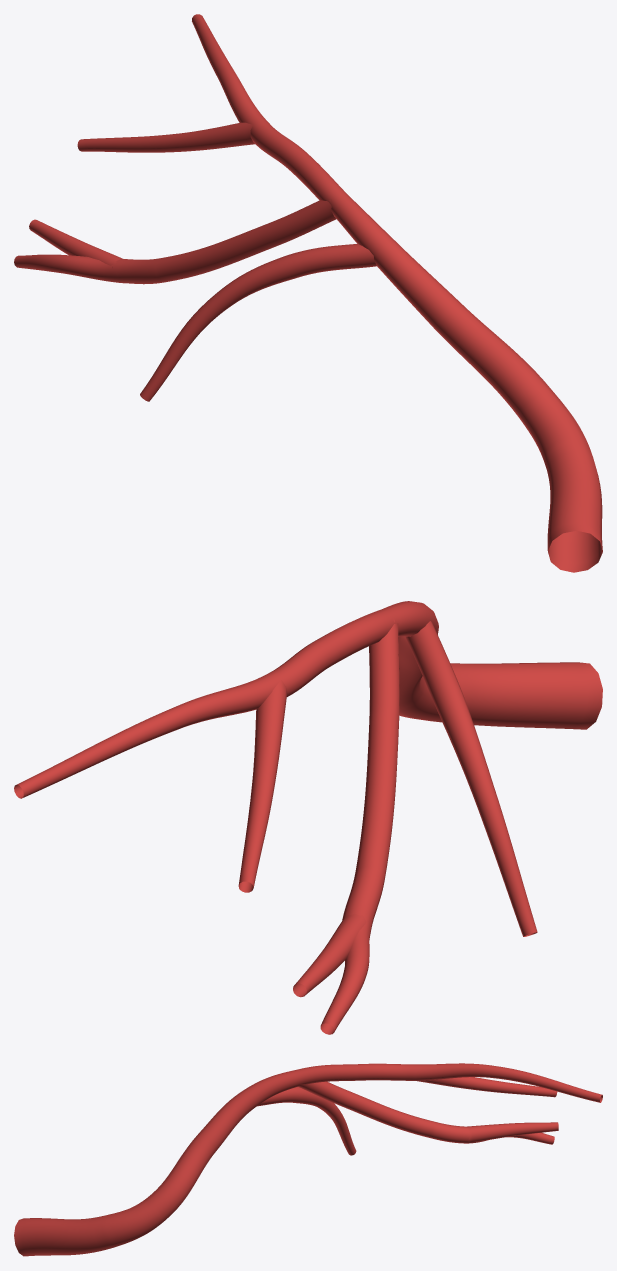
3 views of the same model, one above another, from view 1: azimuth 30°, elevation 25°; view 2: azimuth 150°, elevation 25°; view 3: azimuth 270°, elevation 25° (orthographic). The views are drawn at different scales.
Parts seen in each view (by area): view 1: 左肺后底段动脉; view 2: 左肺后底段动脉; view 3: 左肺后底段动脉.
Boxes of the visible parts, bbox=[...] form: 左肺后底段动脉: bbox=[14, 14, 602, 572]; 左肺后底段动脉: bbox=[14, 601, 602, 1034]; 左肺后底段动脉: bbox=[14, 1063, 602, 1256].
Size of the model in its own units: 0.0767 by 0.0701 by 0.2033.
